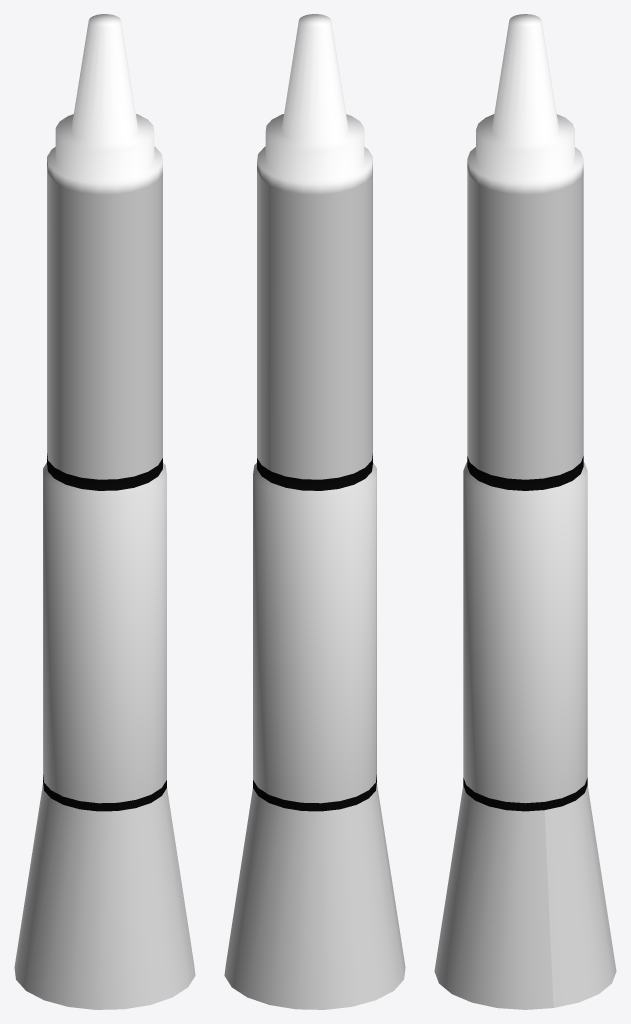
The model's file is jupiter-c-fourth-stage.glb.
The picture shows the model from 3 angles, left to right: view 1: azimuth 30°, elevation 25°; view 2: azimuth 150°, elevation 25°; view 3: azimuth 270°, elevation 25°; orthographic projection.
Visible parts, largest first — view 1: fourth-stage; view 2: fourth-stage; view 3: fourth-stage.
Part boxes in pixels (<box>): fourth-stage: <box>14,14,195,1009</box>; fourth-stage: <box>224,14,405,1009</box>; fourth-stage: <box>434,14,616,1009</box>.
Size of the model in its own units: 0.3345 by 1.93 by 0.3345.
1 material, 1 textured.
